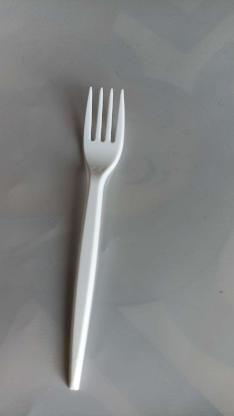Others: (61, 85, 135, 397)
